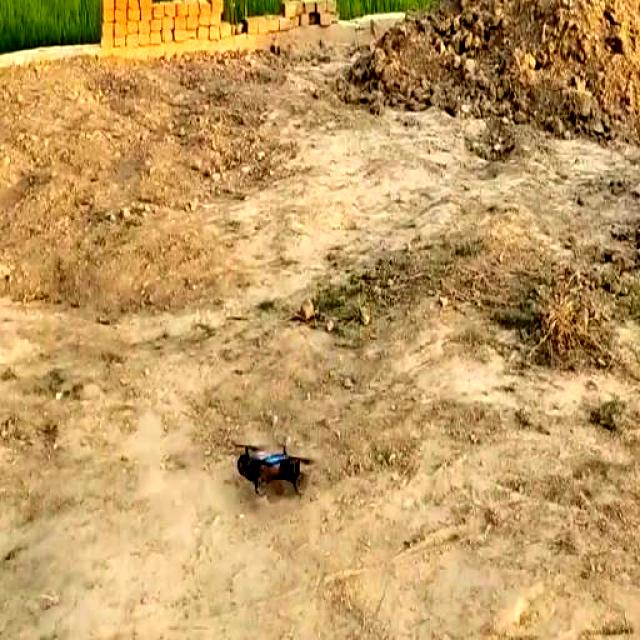bird: (219, 421, 320, 504)
